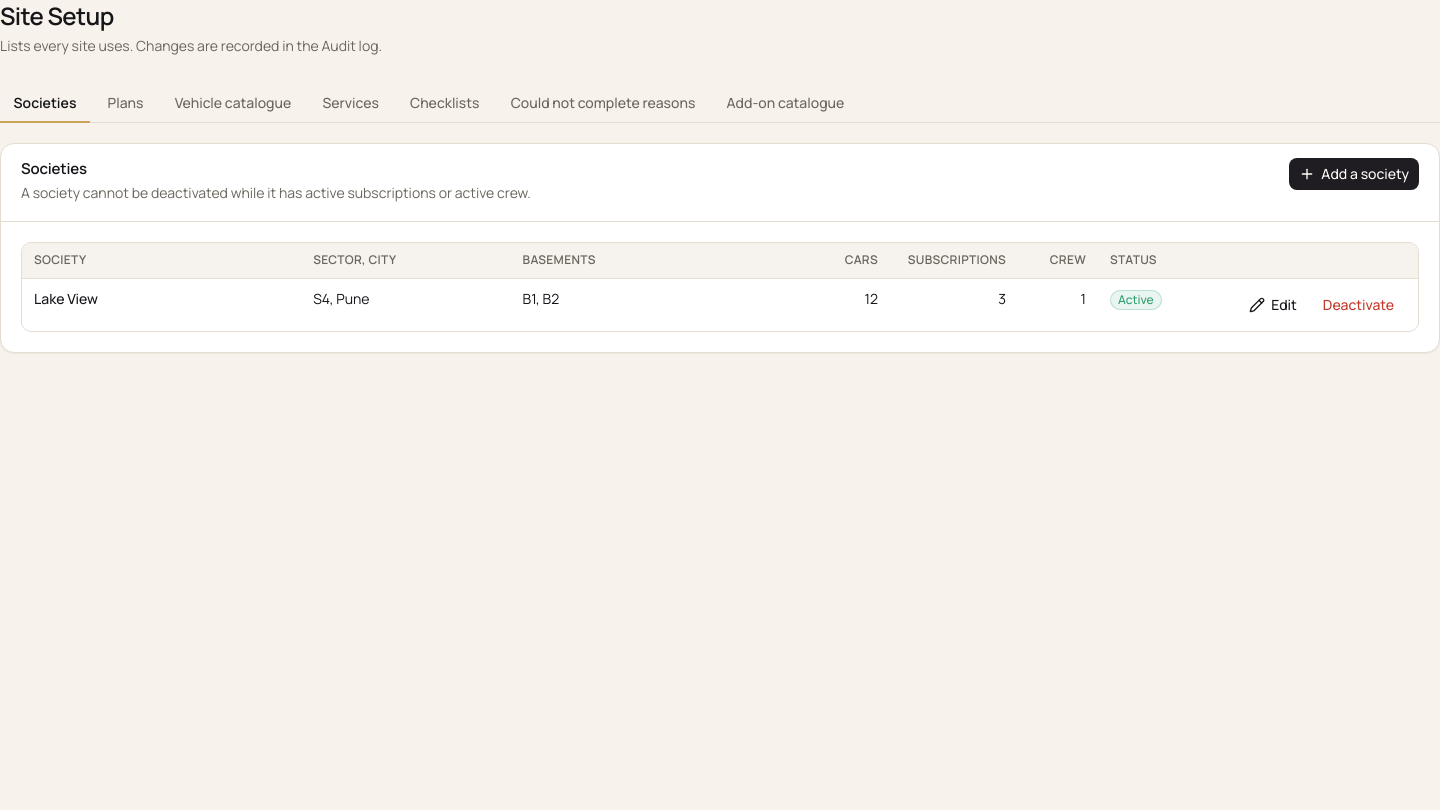
it: reference data › lists societies and shows the in-use block plainly
Expected: the text "Lake View" is shown, [34,289,98,308]
Click the button with aria-label "Deactivate Lake View" at {"x": 1358, "y": 305}, box [1311,289,1406,321]
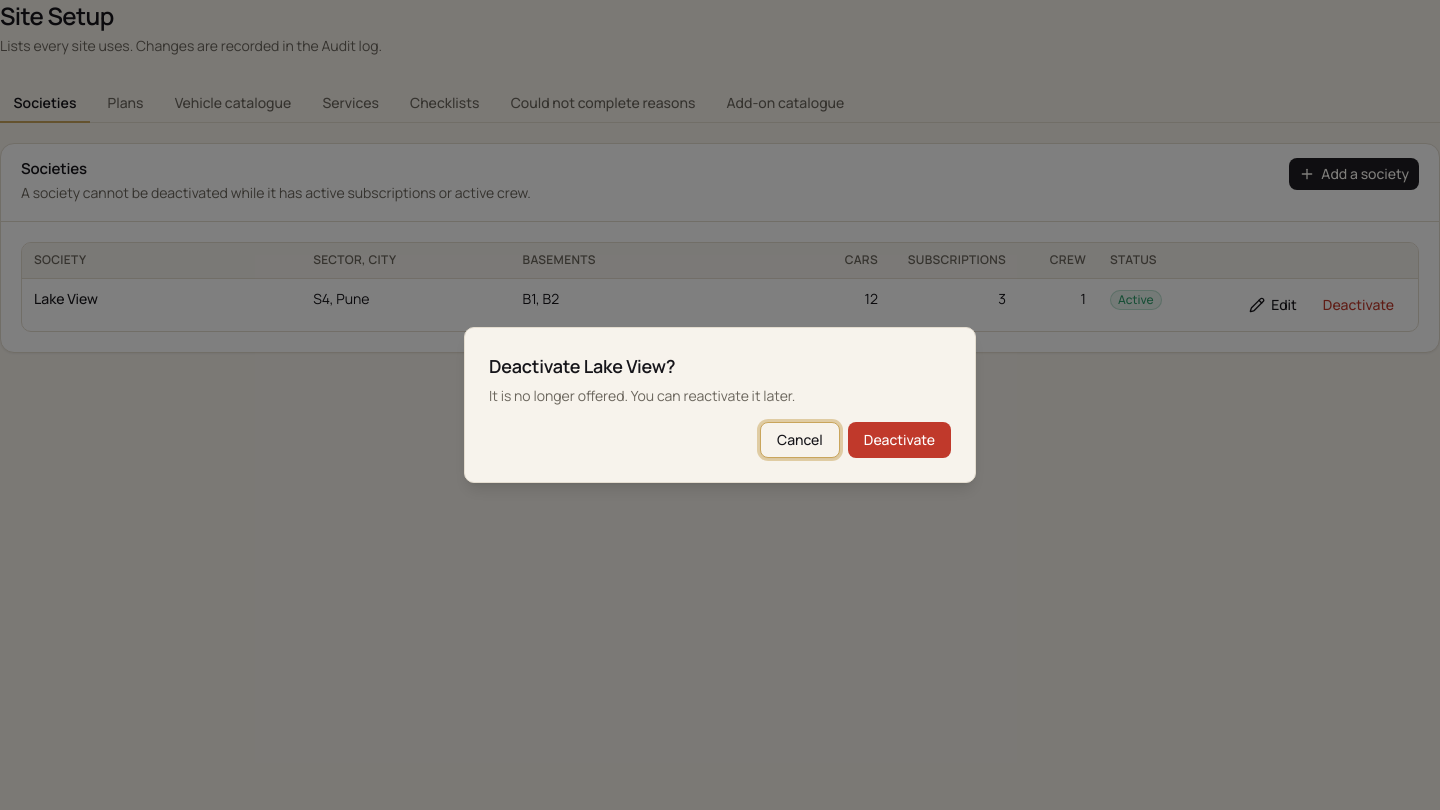
Click the button "Deactivate" at {"x": 899, "y": 440}, box [848,422,951,458]
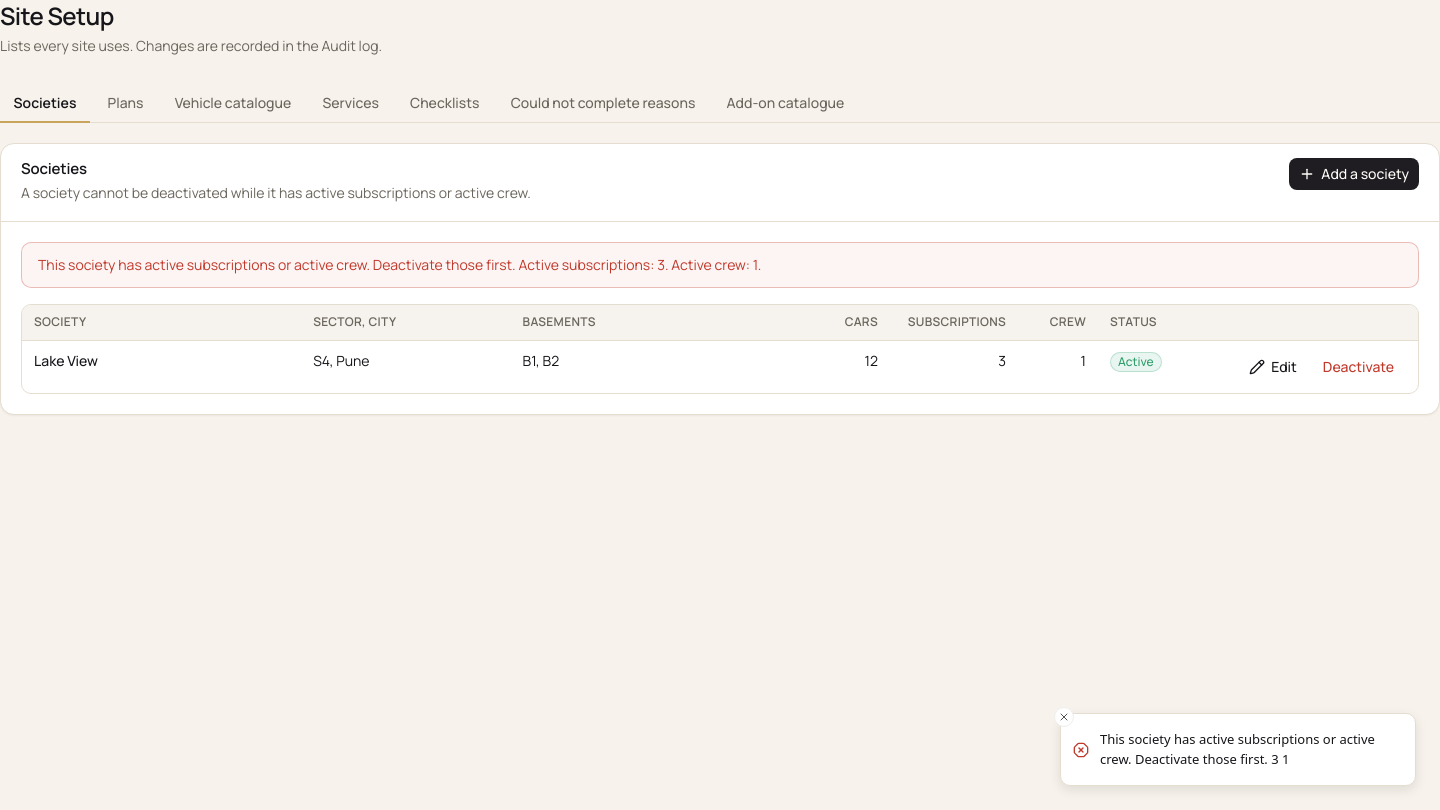
Expected: the message shows "Deactivate those first.", [38,254,761,274]
Expected: the message shows "Active subscriptions: 3. Active crew: 1.", [38,254,761,274]
